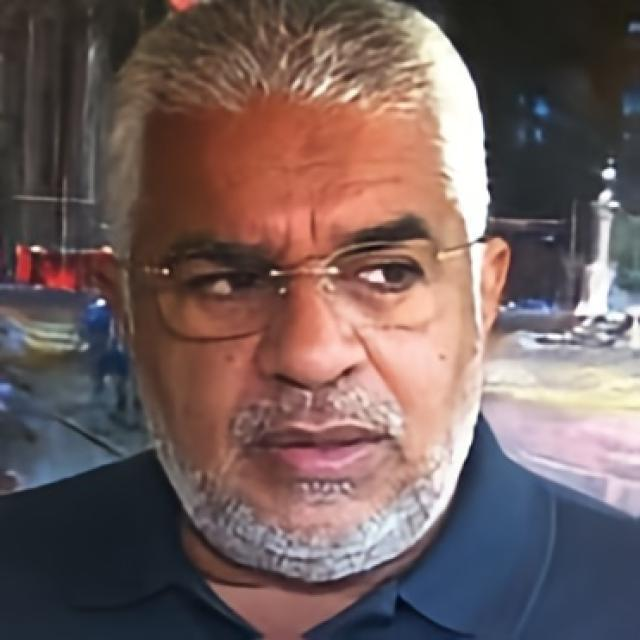anger: (133, 102, 471, 557)
